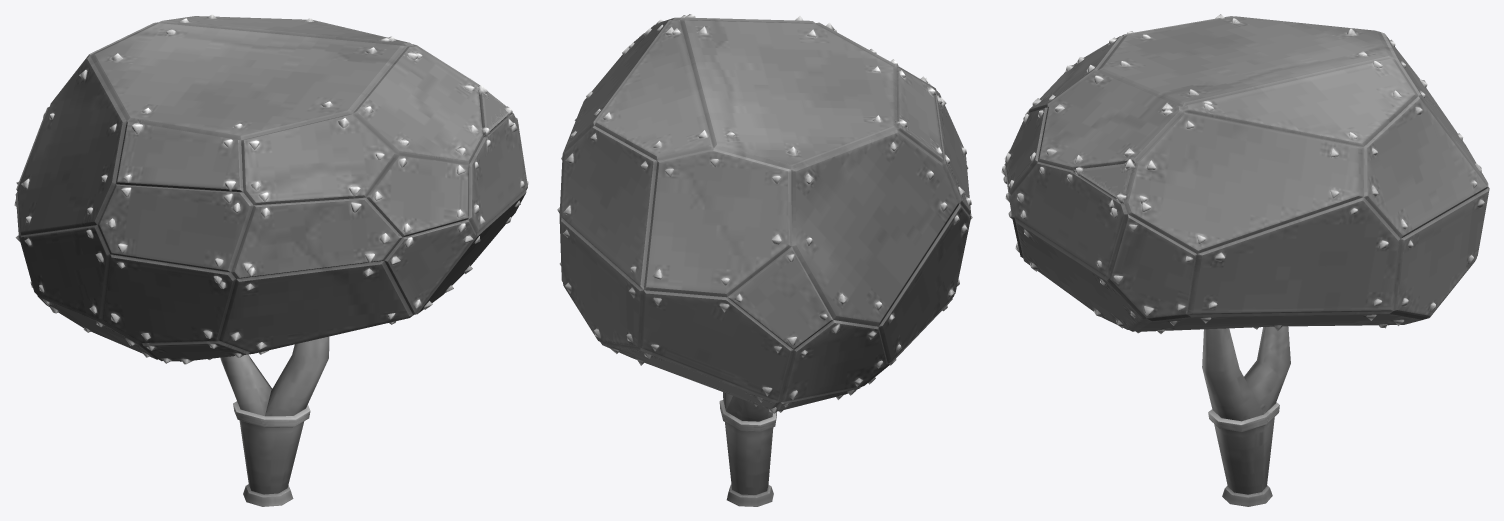
Rendered from obj_tree01_alt.gltf.
The picture shows the model from 3 angles, left to right: view 1: azimuth 30°, elevation 25°; view 2: azimuth 150°, elevation 25°; view 3: azimuth 270°, elevation 25°; orthographic projection. The views are drawn at different scales.
Parts seen in each view (by area): view 1: obj_tree01_alt; view 2: obj_tree01_alt; view 3: obj_tree01_alt.
Boxes of the visible parts, bbox=[...] form: obj_tree01_alt: bbox=[14, 14, 528, 506]; obj_tree01_alt: bbox=[557, 14, 972, 506]; obj_tree01_alt: bbox=[1001, 14, 1489, 506].
Size of what is drawn, in the model's own units: 2.46 by 2.62 by 2.61.
1 material, 1 textured.
